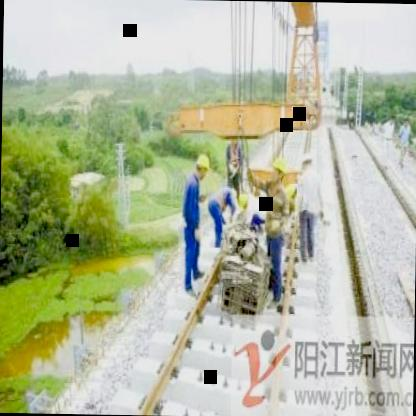helmet: (194, 148, 210, 179), (272, 154, 287, 182), (236, 188, 252, 214), (299, 151, 312, 172)
